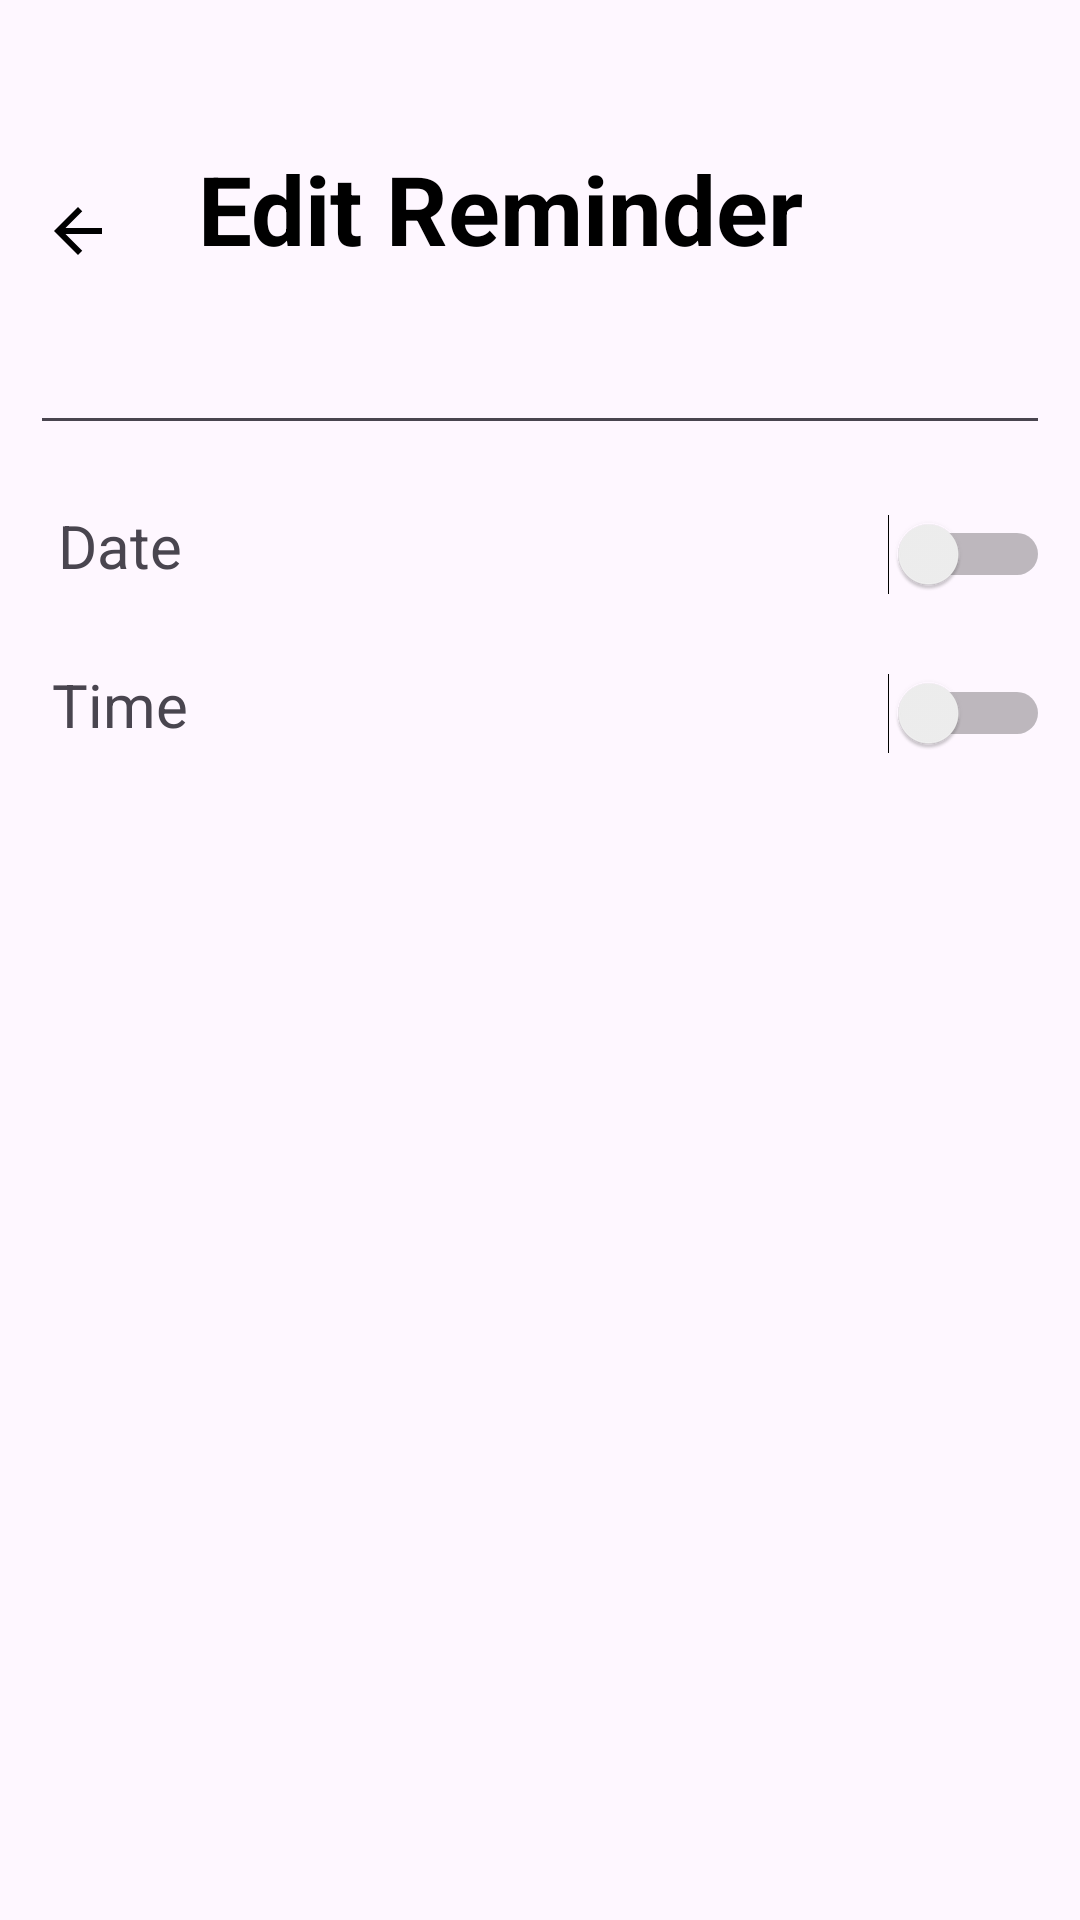

Screen size 1080 × 1920. Icon name, then its box in pixels as Rect(x1, y1, x2, y2):
Back Button: Rect(54, 207, 102, 255)
